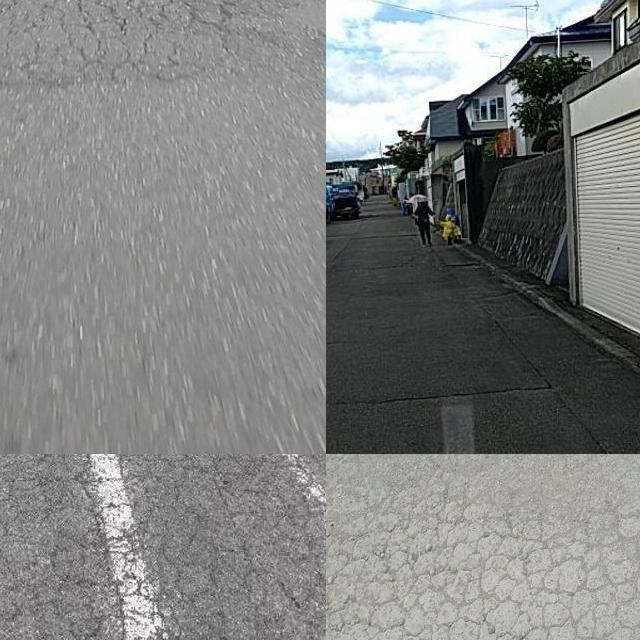Melintang: (326, 372, 564, 415)
Retak Buaya: (0, 454, 326, 640), (326, 515, 640, 640), (0, 0, 237, 104)
